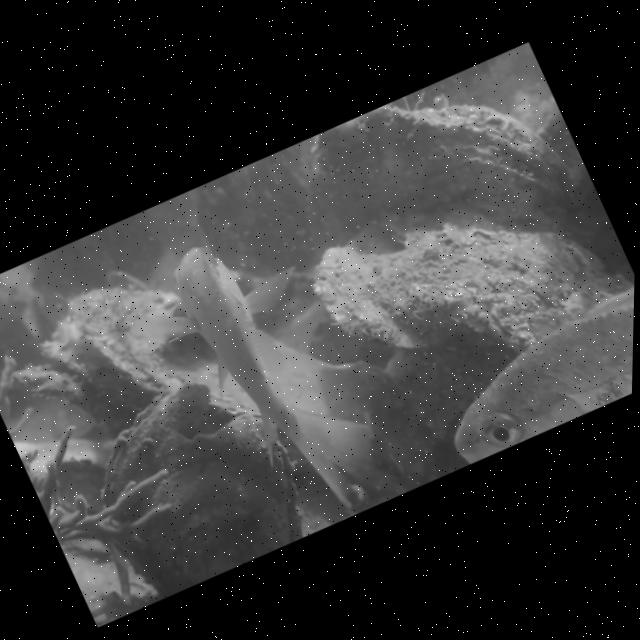Oyster-Closed: (97, 377, 306, 596), (313, 103, 598, 254), (5, 289, 265, 446)
Oyster-Indeterminate: (305, 205, 634, 355)
